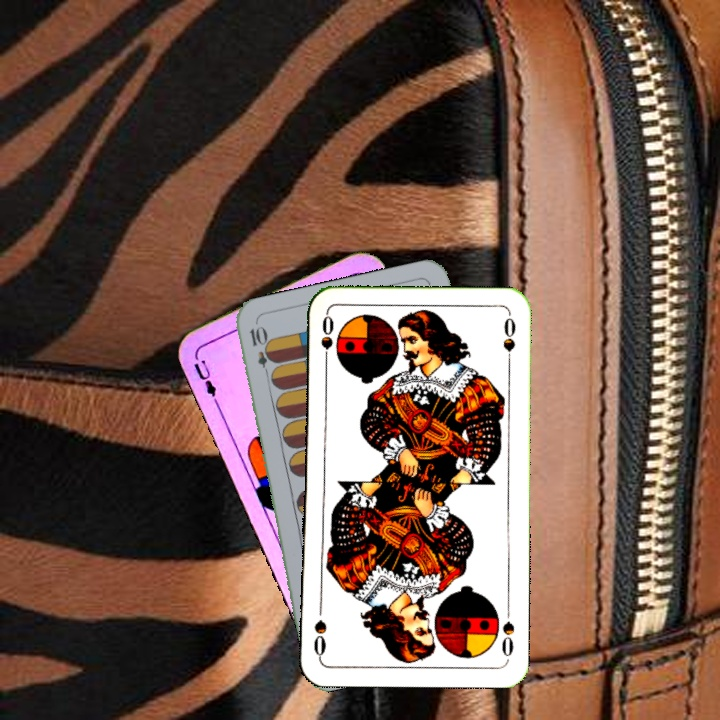E10: (245, 322, 274, 381)
EU: (189, 355, 219, 399)
SO: (317, 311, 337, 370), (497, 602, 517, 661)
